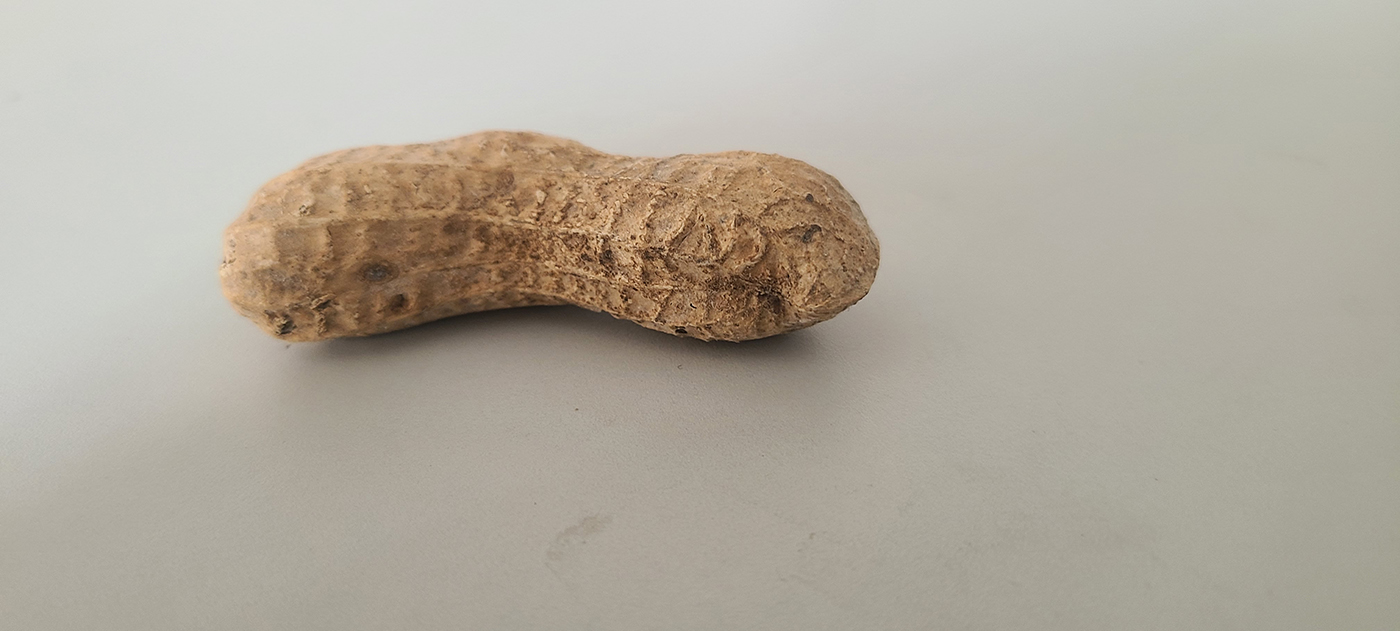h: (217, 121, 888, 350)
